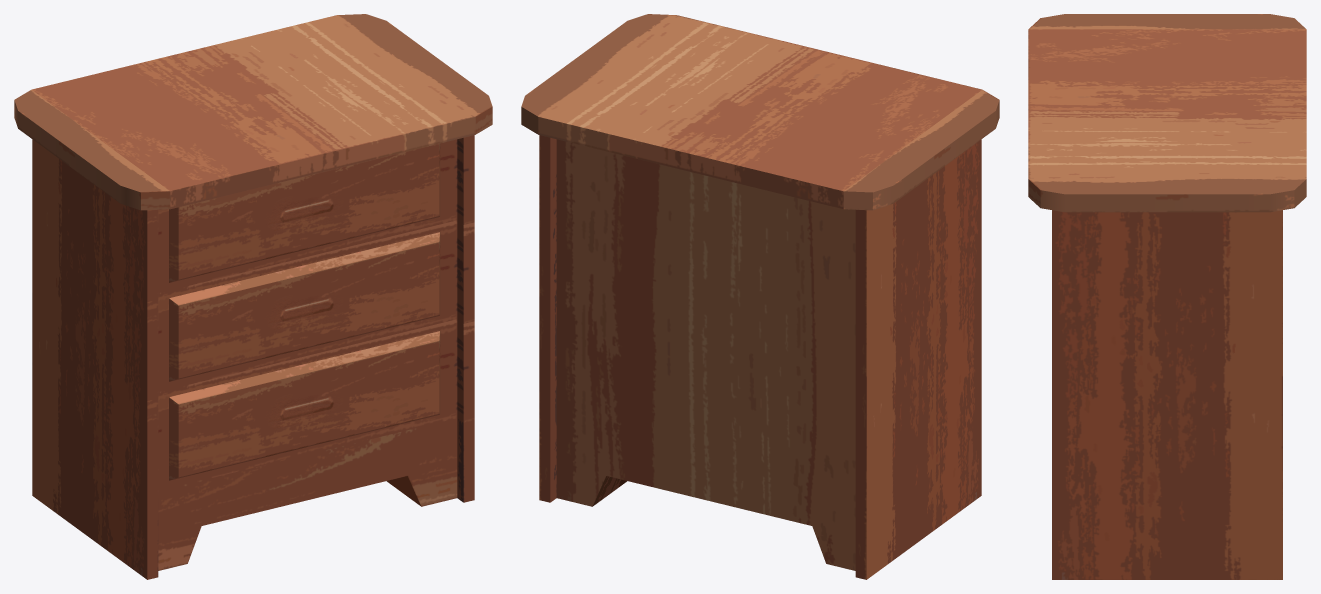
File: dresser.fbx
The picture shows the model from 3 angles, left to right: view 1: azimuth 30°, elevation 25°; view 2: azimuth 150°, elevation 25°; view 3: azimuth 270°, elevation 25°; orthographic projection.
Parts seen in each view (by area): view 1: polySurface15; view 2: polySurface15; view 3: polySurface15.
Boxes of the visible parts, box(x1,y1,x2,y2) form: polySurface15: box(14, 14, 492, 579); polySurface15: box(521, 14, 999, 579); polySurface15: box(1028, 14, 1306, 579).
Bounding box in the file's own units: 1067 × 1092 × 697.
